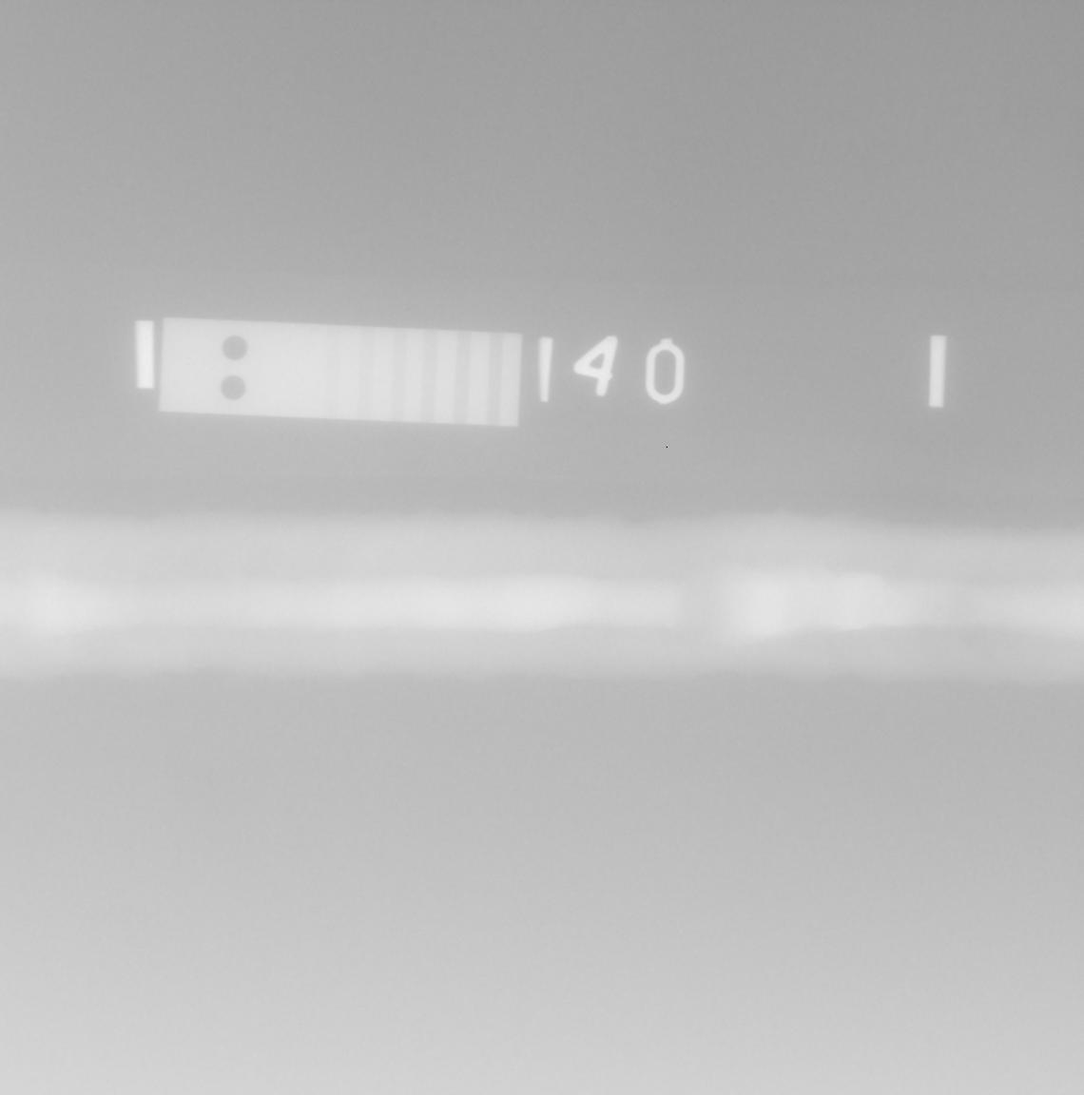Reference Standard 2: (158, 317, 523, 428)
